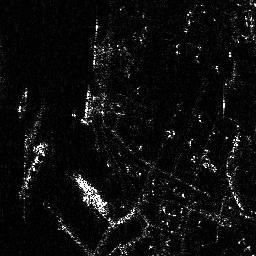ship: (17, 139, 50, 200), (73, 173, 109, 217), (81, 88, 92, 124)
